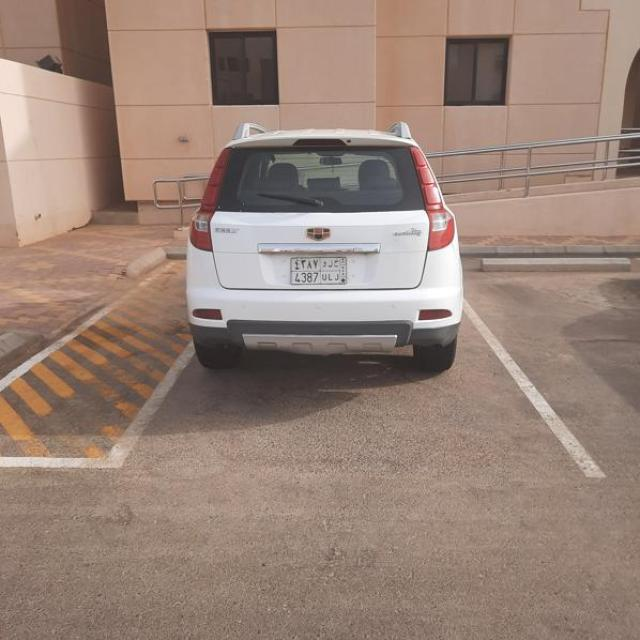license_plate: (291, 258, 348, 285)
